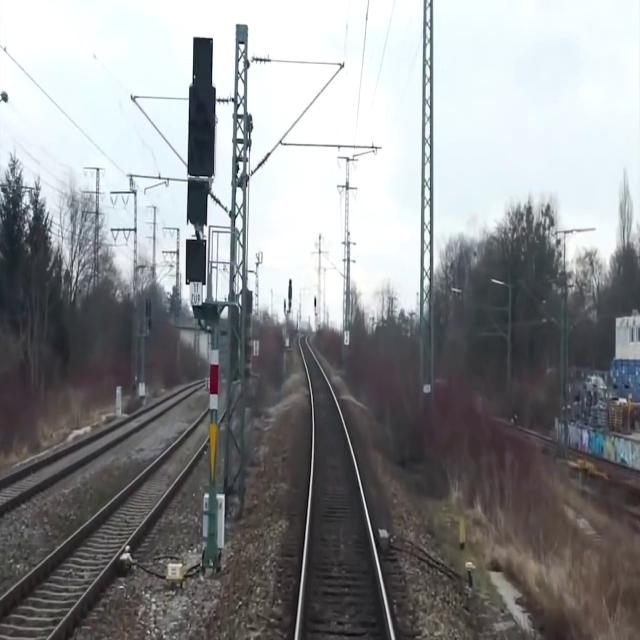rail-track: (0, 414, 206, 639), (298, 337, 390, 639), (0, 393, 181, 499), (221, 388, 224, 412)
